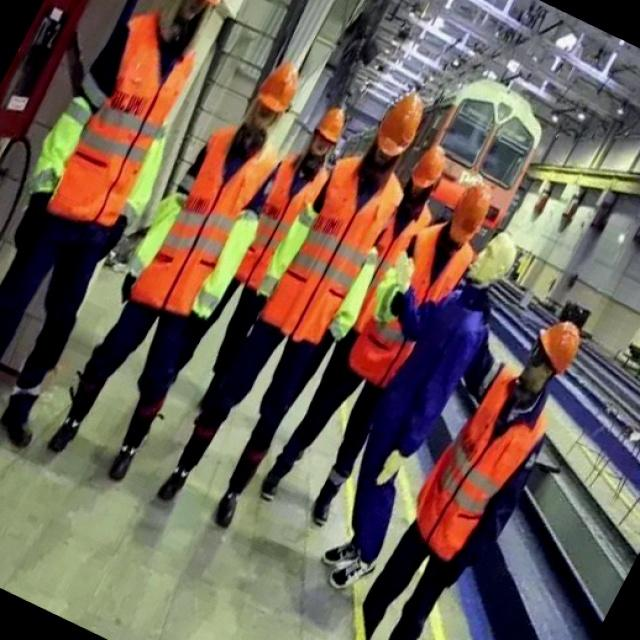Capacete: (377, 92, 423, 156), (449, 183, 491, 245), (469, 232, 516, 284), (540, 321, 580, 373), (257, 62, 298, 112), (412, 145, 445, 188), (316, 107, 344, 143)
Colete: (48, 12, 193, 226), (131, 127, 276, 315), (261, 157, 402, 343), (417, 367, 545, 560), (236, 155, 328, 290), (354, 205, 431, 332), (411, 223, 474, 303)
